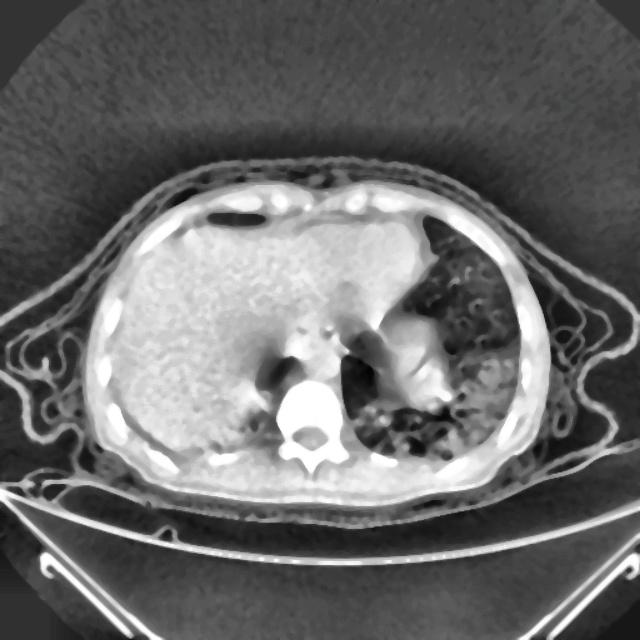covid: (82, 177, 554, 512)
